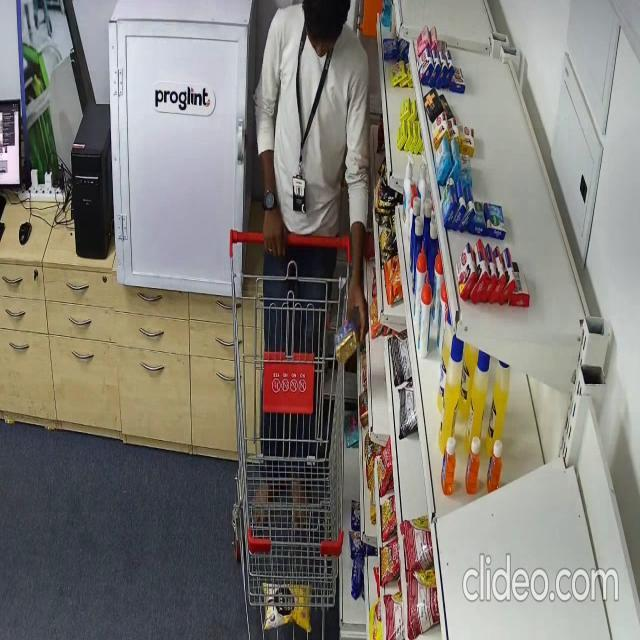normal: (250, 0, 375, 526)
